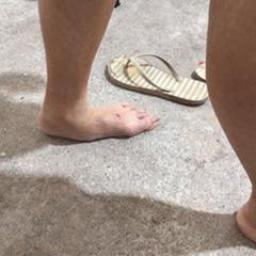Medial View -Left Foot-: (30, 93, 161, 151)
